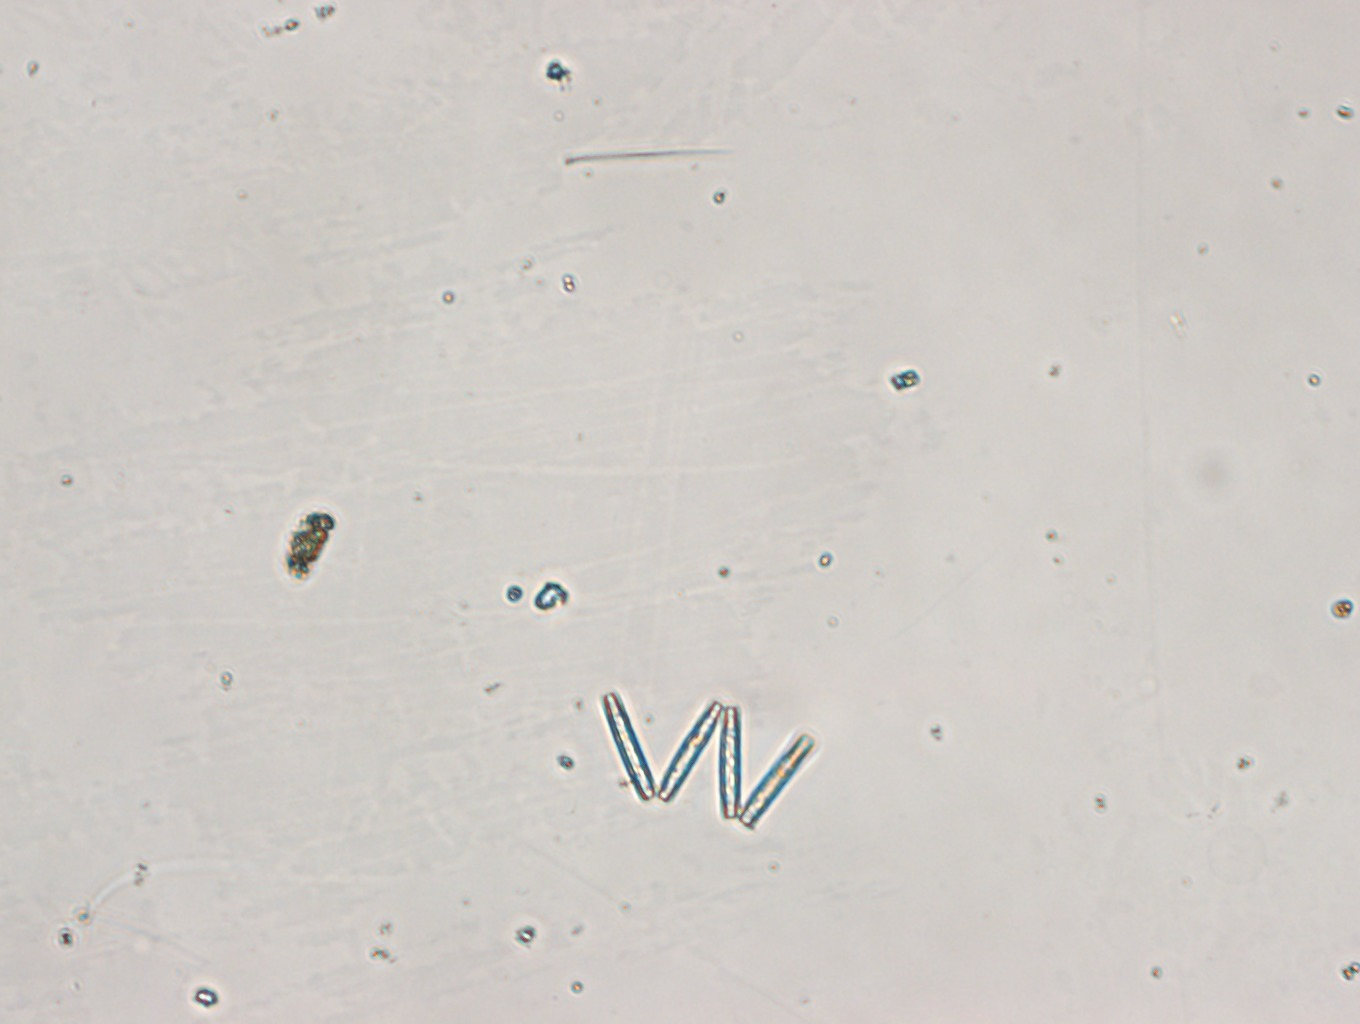thalassionema nitzschioides: (598, 685, 819, 833)
